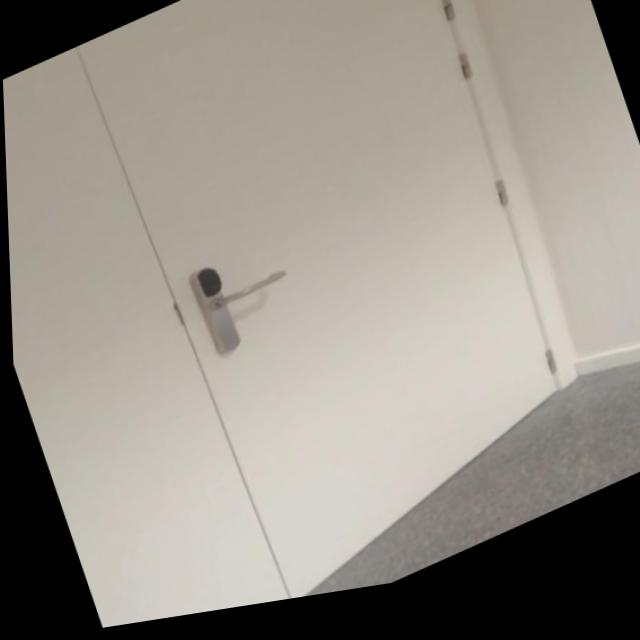door_handle: (198, 267, 299, 326)
